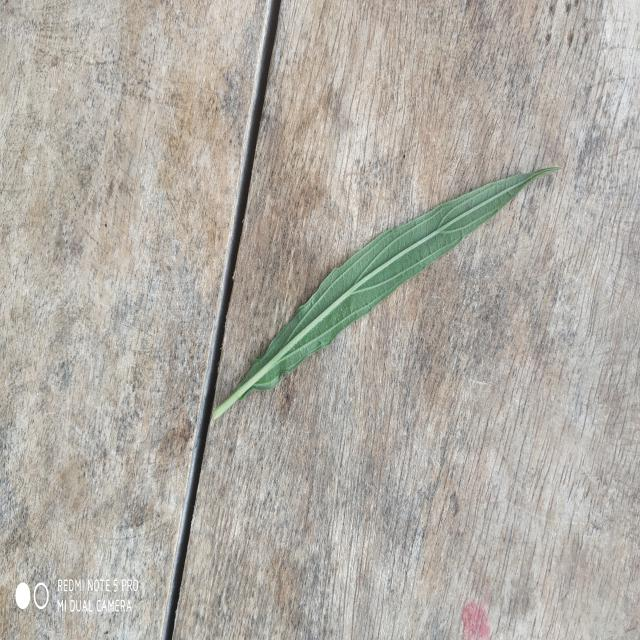thambe: (214, 167, 559, 418)
